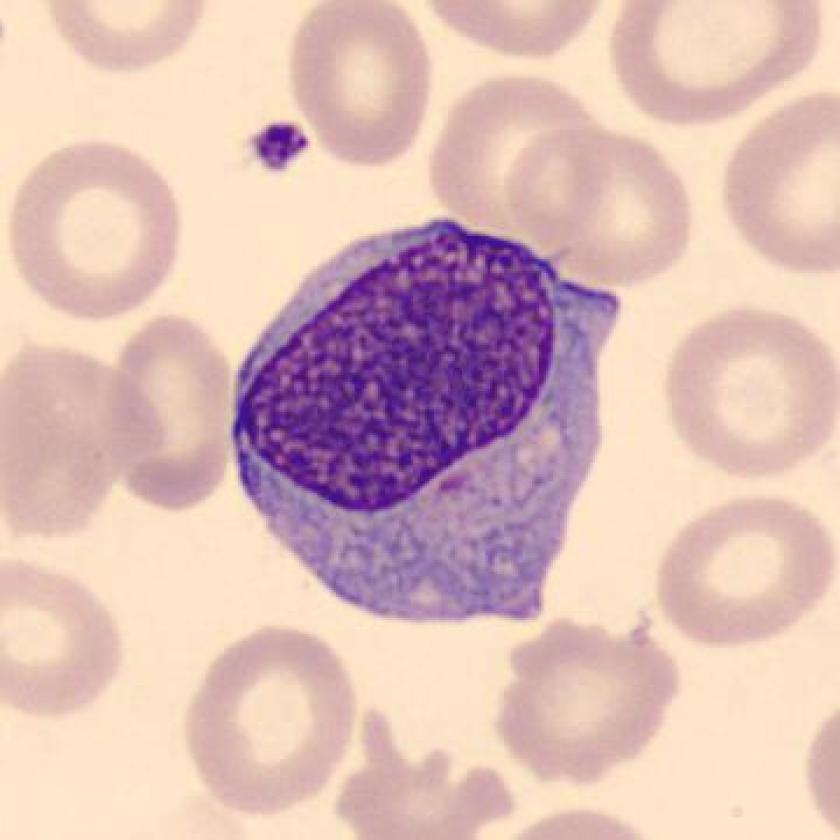monocyte: (216, 198, 631, 635)
